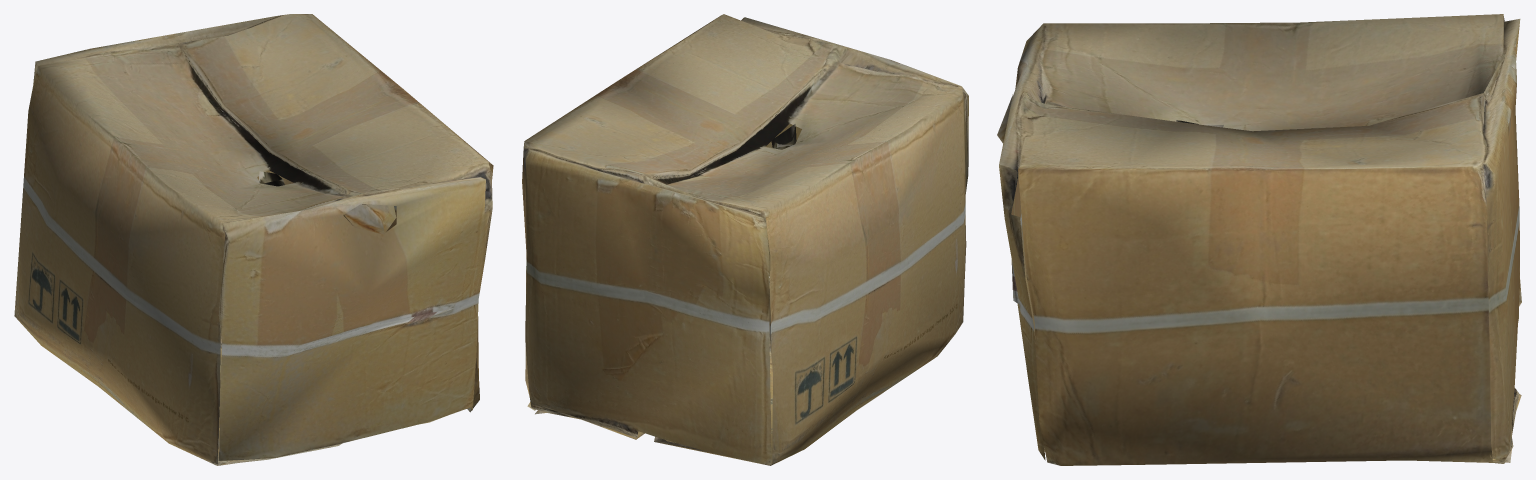
File: Carton.gltf
The picture shows the model from 3 angles, left to right: view 1: azimuth 30°, elevation 25°; view 2: azimuth 150°, elevation 25°; view 3: azimuth 270°, elevation 25°; orthographic projection. The views are drawn at different scales.
Visible parts, largest first — view 1: Carton; view 2: Carton; view 3: Carton.
Part boxes in pixels (box(x1,y1,x2,y2)): Carton: box(14, 14, 493, 465); Carton: box(522, 14, 968, 465); Carton: box(997, 14, 1521, 465).
Bounding box in the file's own units: 0.3873 × 0.3403 × 0.5155.
Materials: 1 (1 with a texture image).
